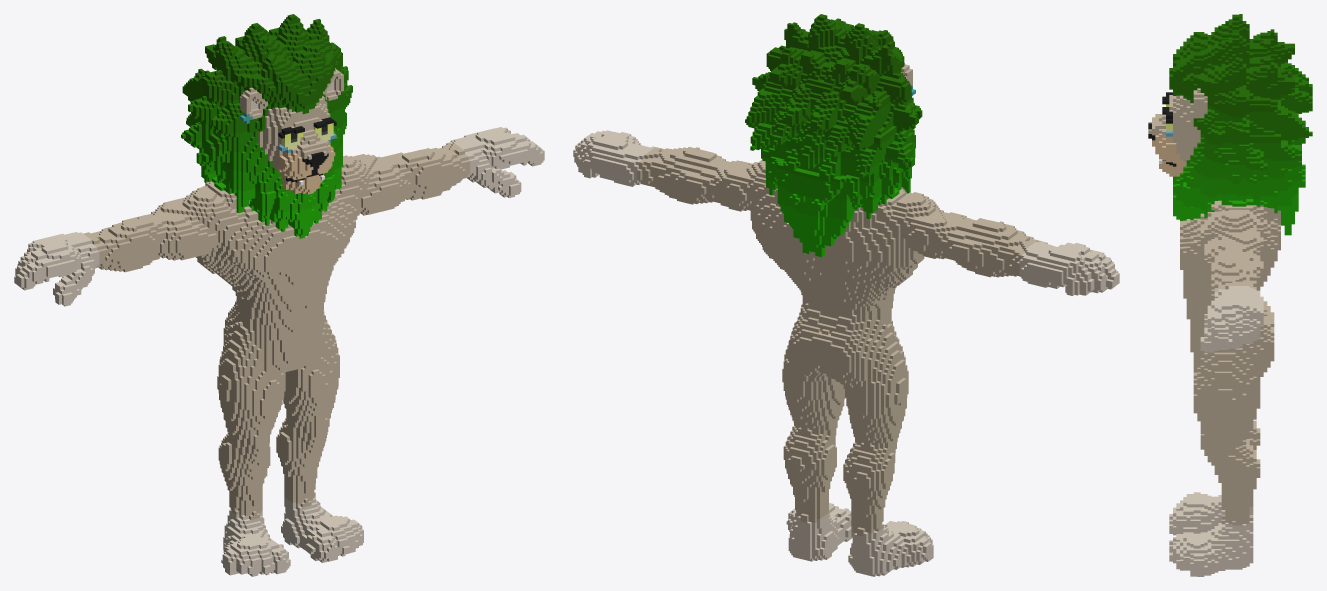
The model's file is 1057-DKuCEaXs.glb.
The picture shows the model from 3 angles, left to right: view 1: azimuth 30°, elevation 25°; view 2: azimuth 150°, elevation 25°; view 3: azimuth 270°, elevation 25°; orthographic projection. The views are drawn at different scales.
Visible parts, largest first — view 1: standard; view 2: standard; view 3: standard.
Boxes of the visible parts, x1,y1,x2,y2 form: standard: [14, 14, 544, 576]; standard: [573, 14, 1119, 576]; standard: [1148, 14, 1312, 576].
Bounding box in the file's own units: 17.2 × 16.5 × 4.7.
Materials: 5 (5 with a texture image).
